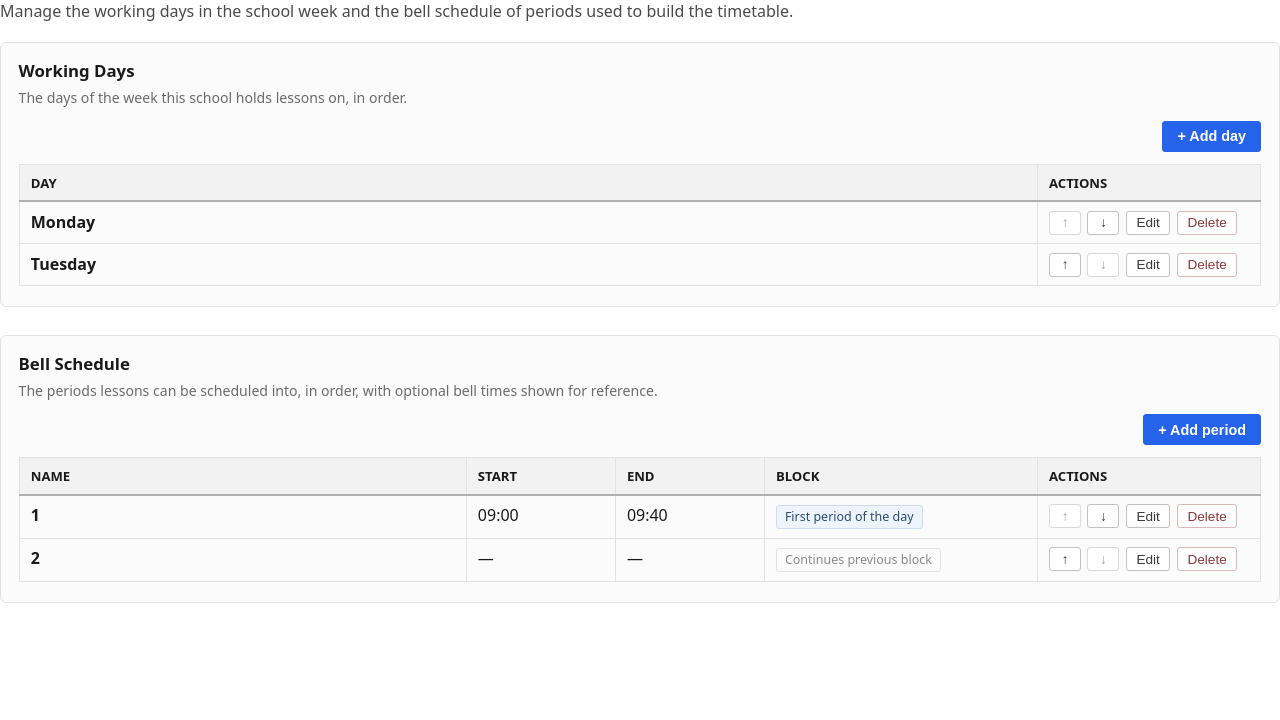
Scenario: CalendarBellSchedulePanel › Working Days › reveals the create form only after clicking + Add day, then sends the exact create request and refetches
Expected: the column heading "Monday" is shown, [19,201,1037,244]
Click the button "+ Add day". click: click(1212, 136)
box: [1162,121,1261,152]
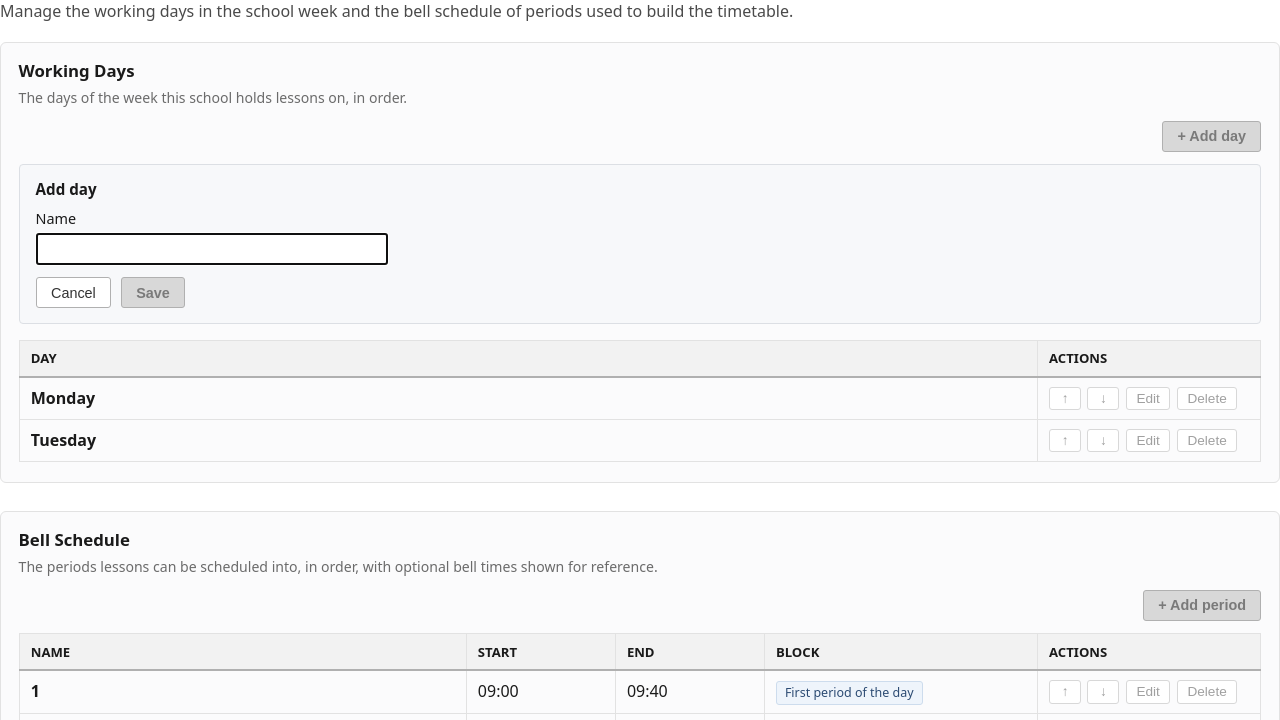
Type "Wednesday" into the field labelled "Name". click: (212, 249)
box: [36,232,388,265]
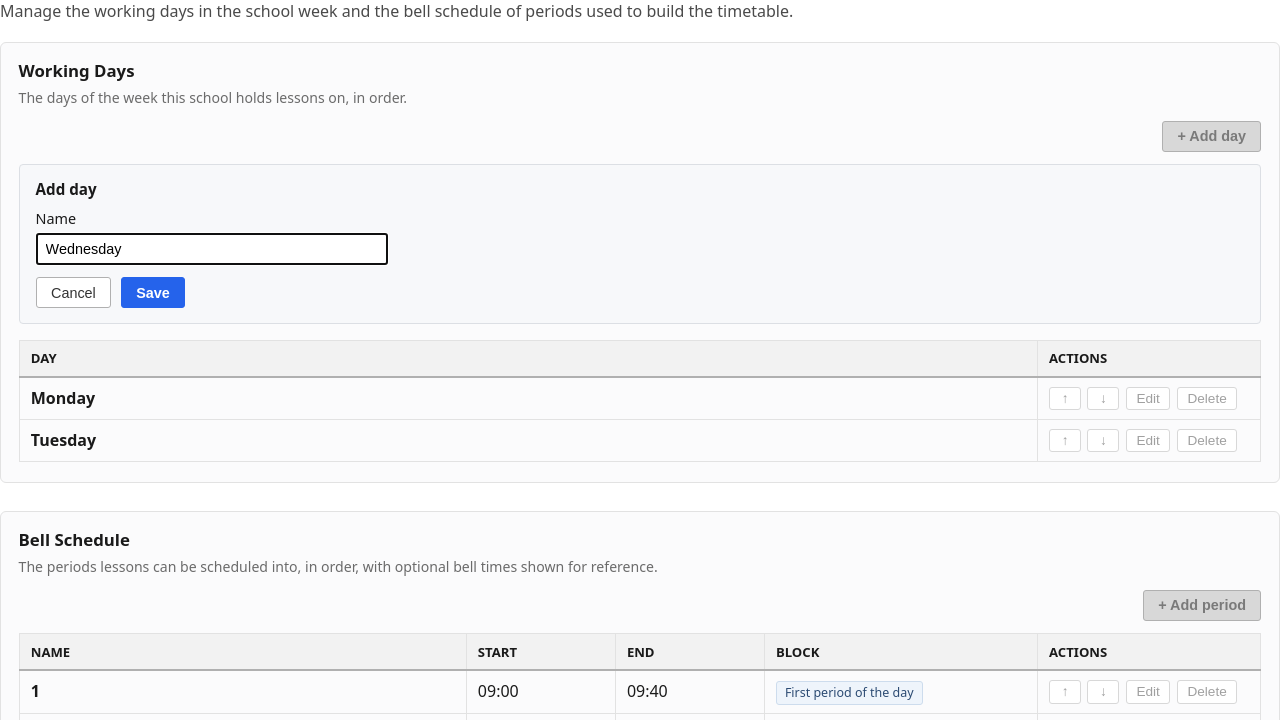
Click the button "Save". click: click(153, 293)
box: [121,277,185,308]
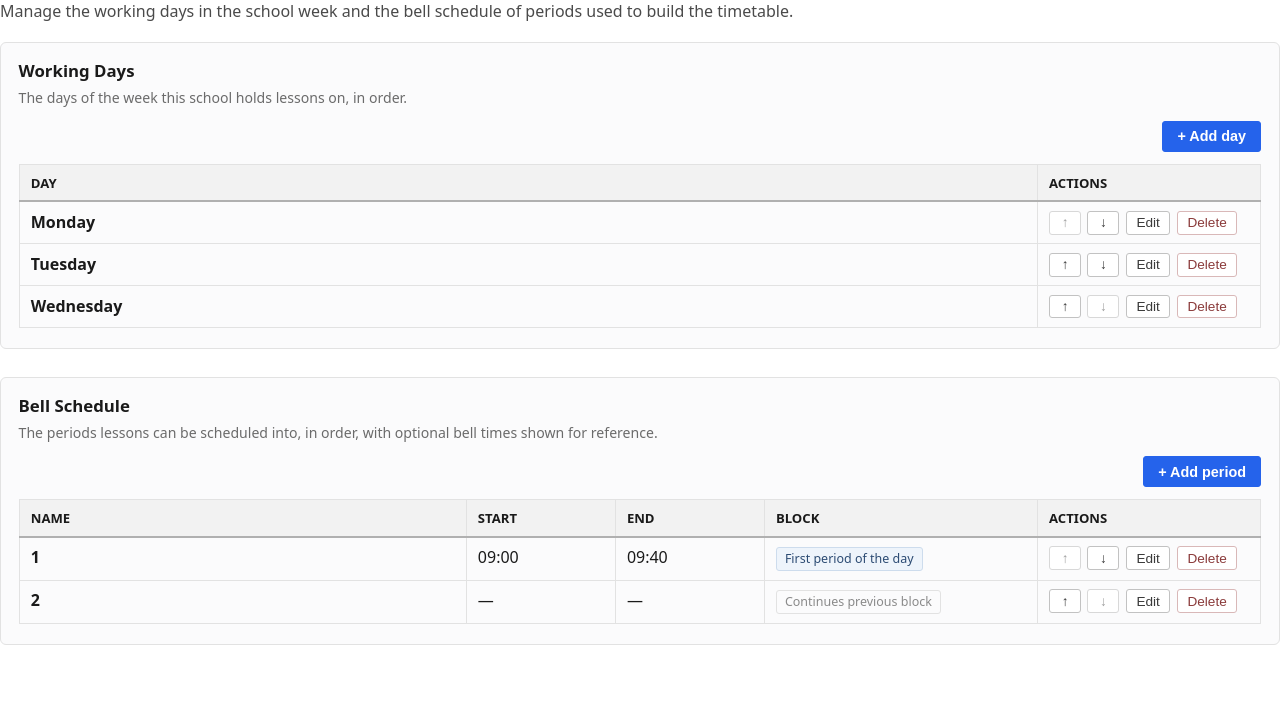
Expected: the column heading "Wednesday" is shown, [19,286,1037,328]
